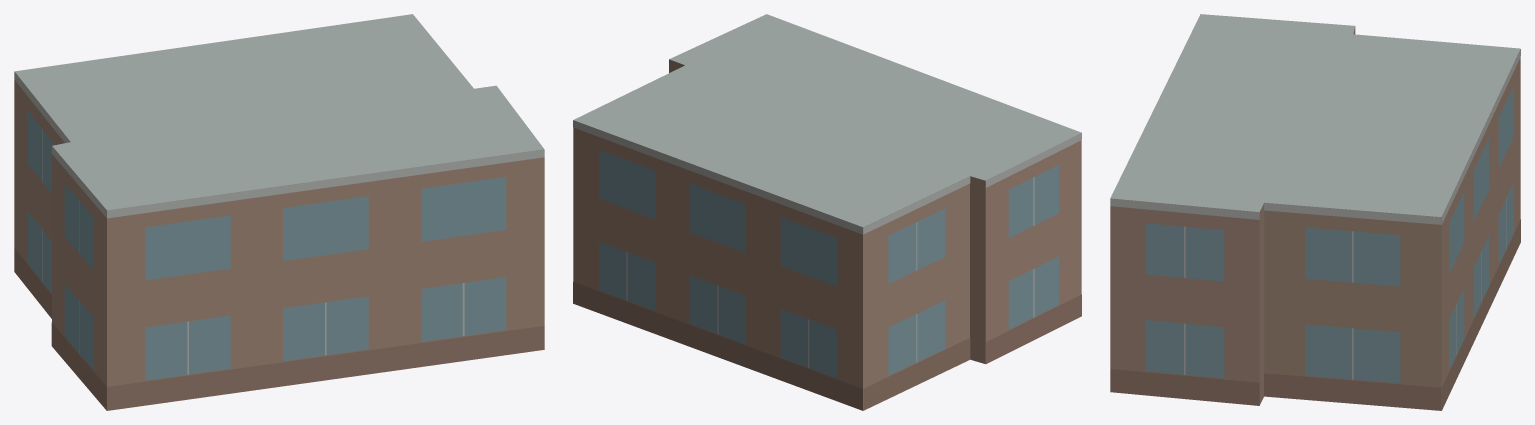
The model's file is survey-upis-32964223.glb.
3 renders of one model, left to right at view 1: azimuth 30°, elevation 25°; view 2: azimuth 150°, elevation 25°; view 3: azimuth 270°, elevation 25°, orthographic. The views are drawn at different scales.
Parts seen in each view (by area): view 1: survey-upis-32964223.tmp; view 2: survey-upis-32964223.tmp; view 3: survey-upis-32964223.tmp.
Part boxes in pixels (left/top/right/bottom): survey-upis-32964223.tmp: left=14, top=14, right=544, bottom=410; survey-upis-32964223.tmp: left=573, top=14, right=1081, bottom=410; survey-upis-32964223.tmp: left=1110, top=14, right=1520, bottom=410.
Size of the model in its own units: 13.73 by 6.1 by 11.73.
